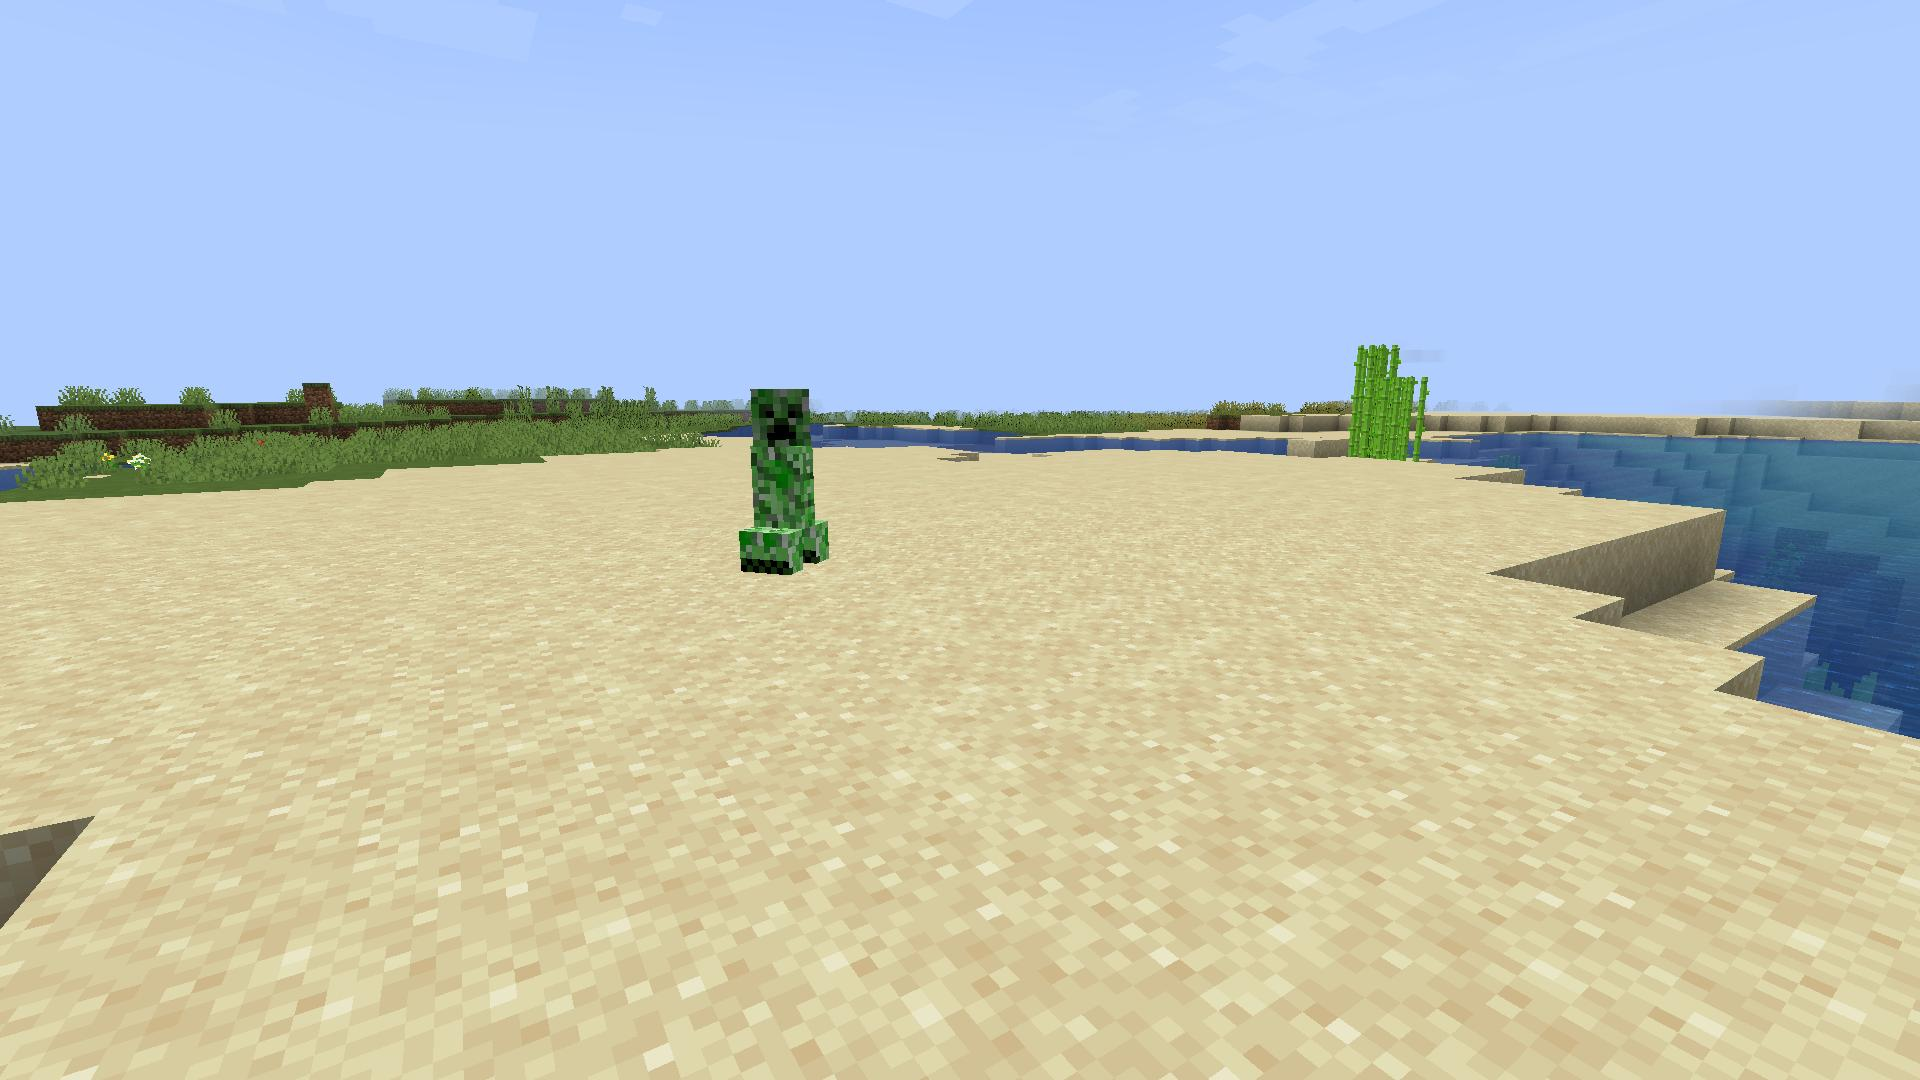creeper: (732, 376, 833, 583)
